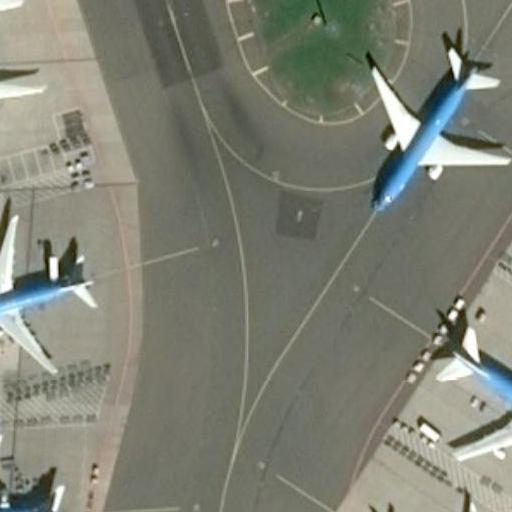Aircraft: (348, 33, 512, 216), (0, 196, 111, 369), (420, 302, 512, 467), (0, 0, 45, 162), (0, 429, 82, 512), (352, 493, 512, 512)
